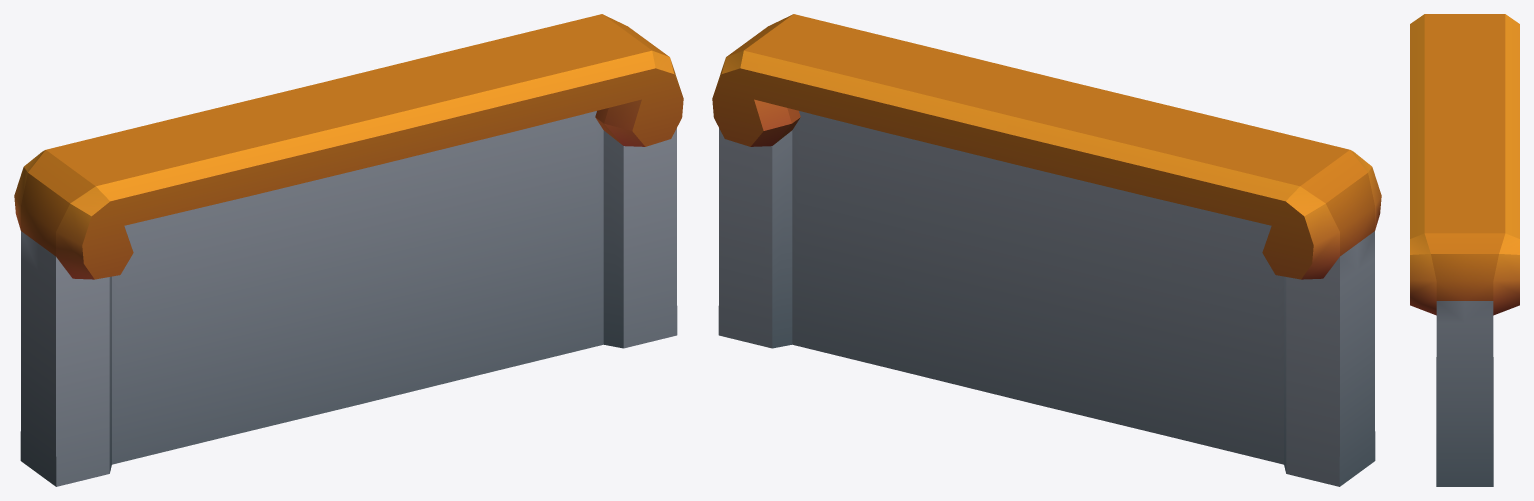
File: stonewall_4.glb
3 renders of one model, left to right at view 1: azimuth 30°, elevation 25°; view 2: azimuth 150°, elevation 25°; view 3: azimuth 270°, elevation 25°, orthographic. The views are drawn at different scales.
Visible parts, largest first — view 1: stonewall_4; view 2: stonewall_4; view 3: stonewall_4.
Boxes of the visible parts, <box> form: stonewall_4: <box>14,14,683,486</box>; stonewall_4: <box>712,14,1381,486</box>; stonewall_4: <box>1410,14,1519,486</box>.
Bounding box in the file's own units: 3.31 × 1.52 × 0.6268.
1 material, 1 textured.
